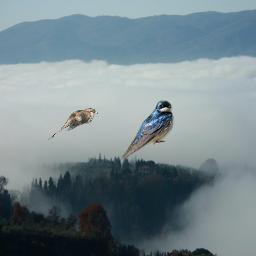Cuckoo: (48, 108, 98, 140)
Swallow: (122, 99, 174, 160)
